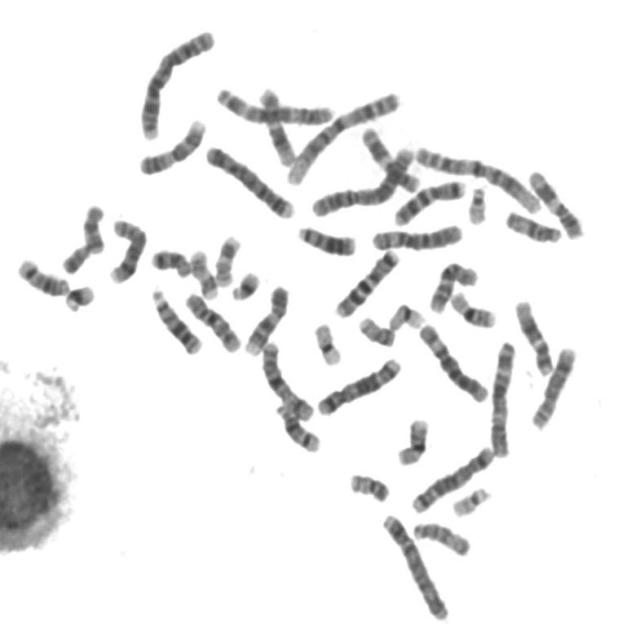A1: (283, 88, 403, 188), (411, 142, 544, 216)
A2: (136, 25, 218, 143), (308, 144, 418, 219)
A3: (213, 84, 336, 127), (486, 336, 518, 459)
B4: (378, 509, 451, 623), (201, 142, 296, 222)
B5: (408, 442, 496, 516), (313, 353, 404, 418)
C10: (181, 289, 243, 355), (426, 258, 480, 316)
C11: (525, 166, 586, 242), (358, 122, 421, 194)
C12: (511, 295, 556, 378), (255, 84, 298, 167)
C6: (415, 320, 491, 404), (367, 220, 464, 253)
C7: (331, 245, 401, 320), (390, 175, 468, 228)
C8: (527, 342, 579, 431), (105, 215, 149, 285)
C9: (135, 115, 208, 177), (241, 281, 291, 357)
D13: (148, 284, 205, 356), (293, 221, 358, 259)
D14: (271, 399, 323, 454), (14, 254, 72, 298)
D15: (409, 518, 473, 558), (501, 207, 565, 246)
E16: (447, 286, 499, 330), (393, 414, 430, 468)
E17: (187, 246, 221, 302), (212, 231, 243, 289)
E18: (79, 200, 109, 256), (148, 244, 192, 280)
F19: (311, 319, 343, 367), (385, 300, 427, 332)
F20: (346, 469, 391, 504), (355, 313, 397, 348)
G21: (60, 281, 96, 314), (228, 268, 262, 302)
G22: (448, 483, 494, 519), (464, 182, 489, 226)
X: (258, 337, 316, 422)
Y: (59, 240, 92, 276)
